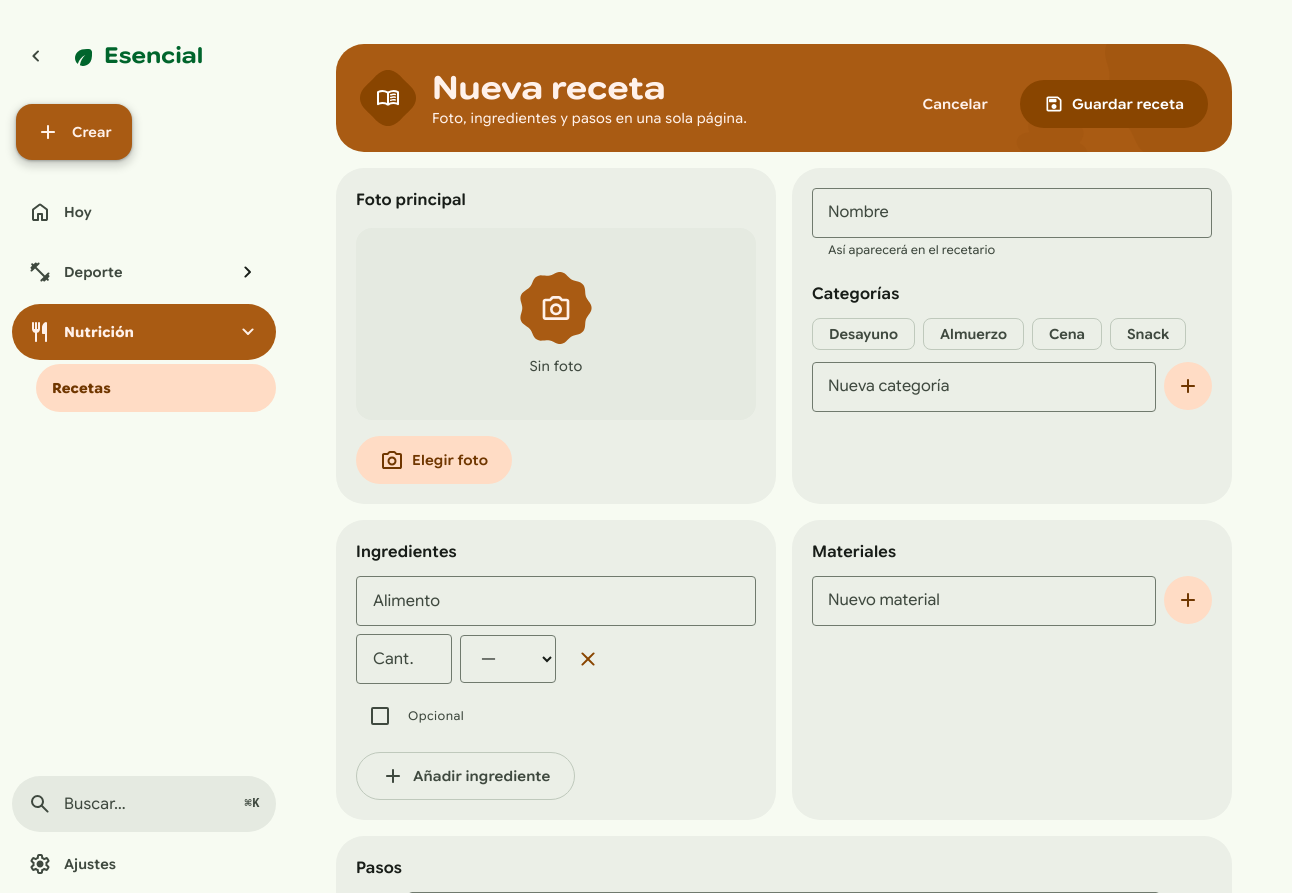
it: nueva-receta: categorías › toggle de chips base y añadir custom
Expected: the heading "Nueva receta" is shown, x1=432 y1=68 x2=666 y2=108
Click the button "Desayuno": click(864, 334) x1=812 y1=318 x2=915 y2=350
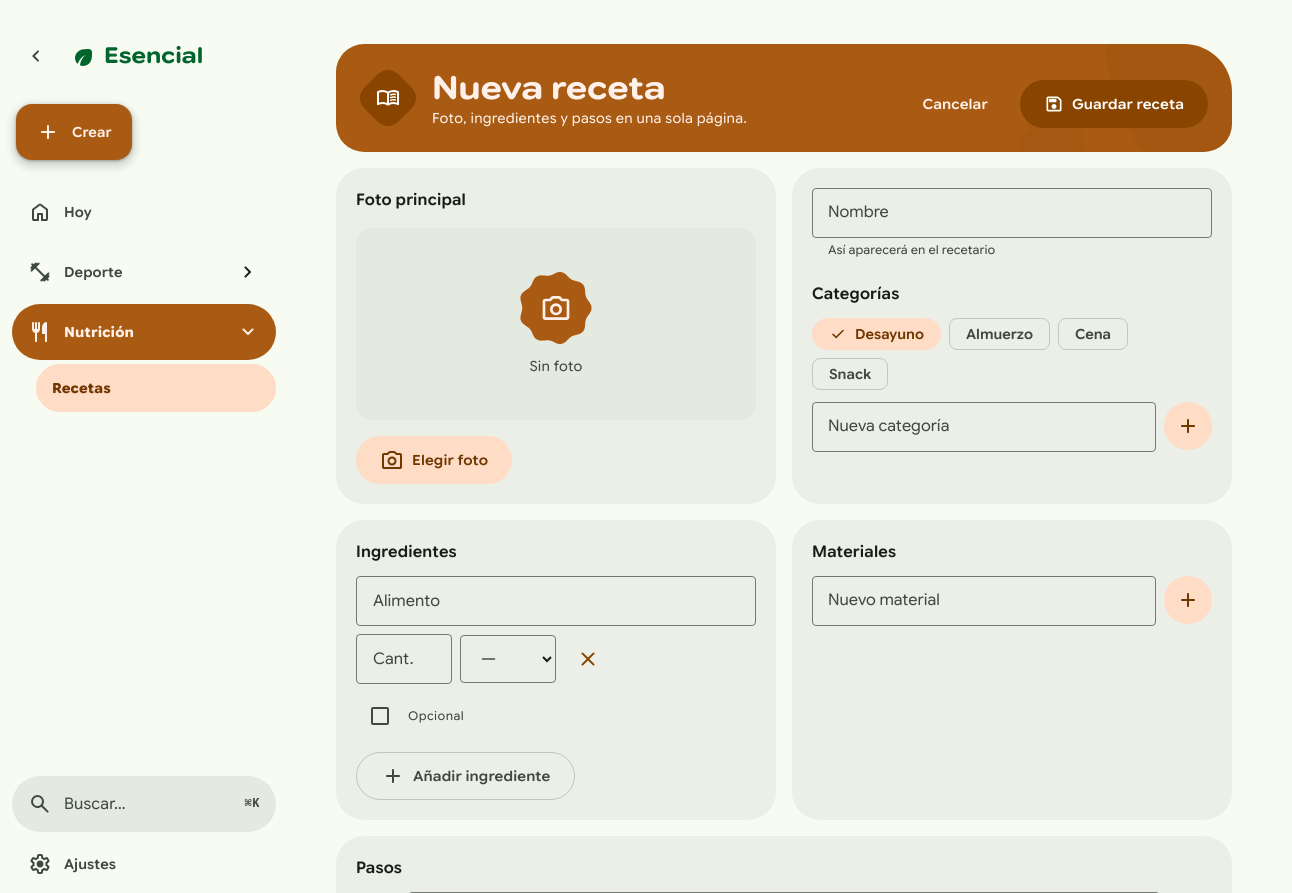
Result: the button "Desayuno" is pressed at x1=812 y1=318 x2=941 y2=350
In the field labelled "Nueva categoría": (984, 427) x1=812 y1=402 x2=1156 y2=452, type "batch"
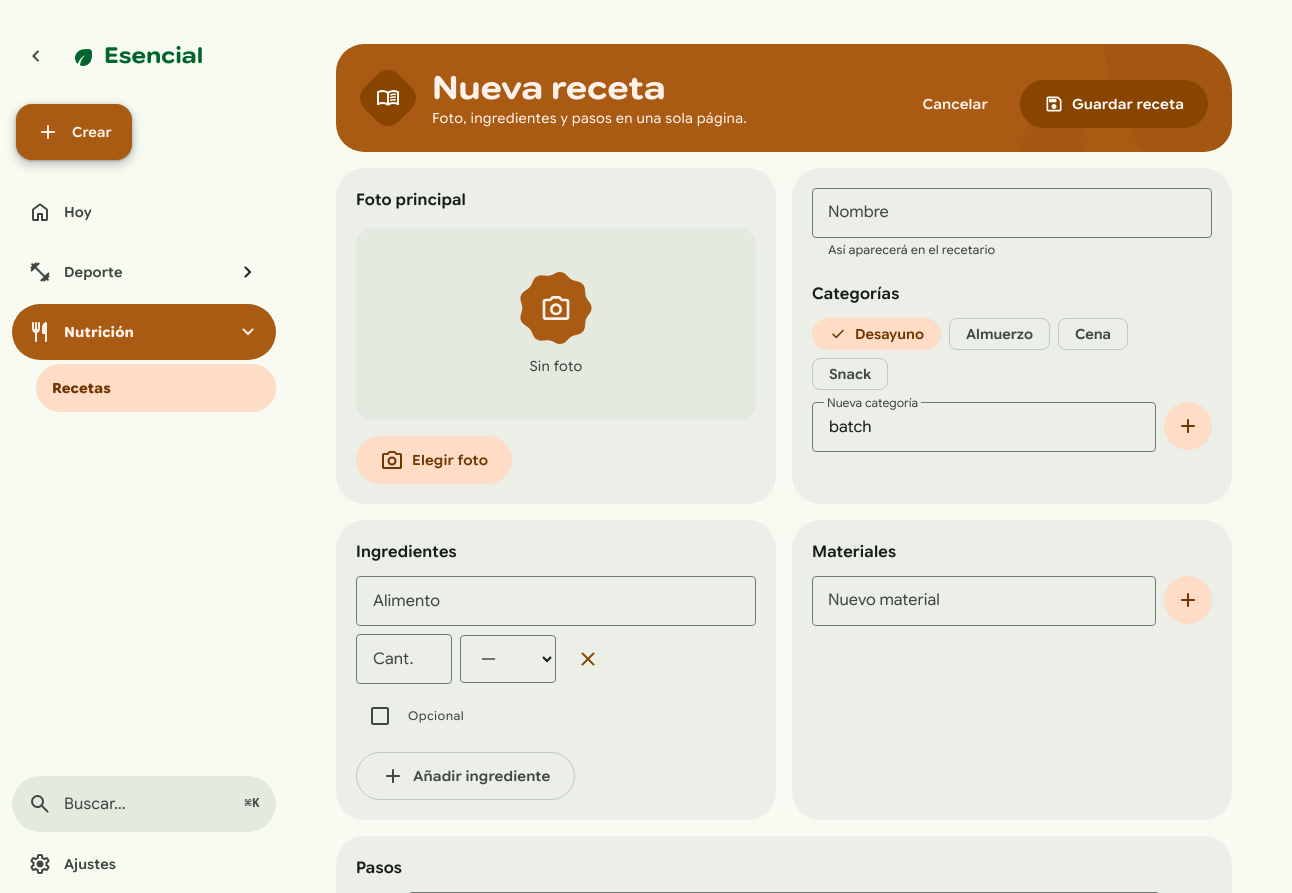
Click the button named "Añadir categoría": click(1188, 426) x1=1164 y1=402 x2=1212 y2=450
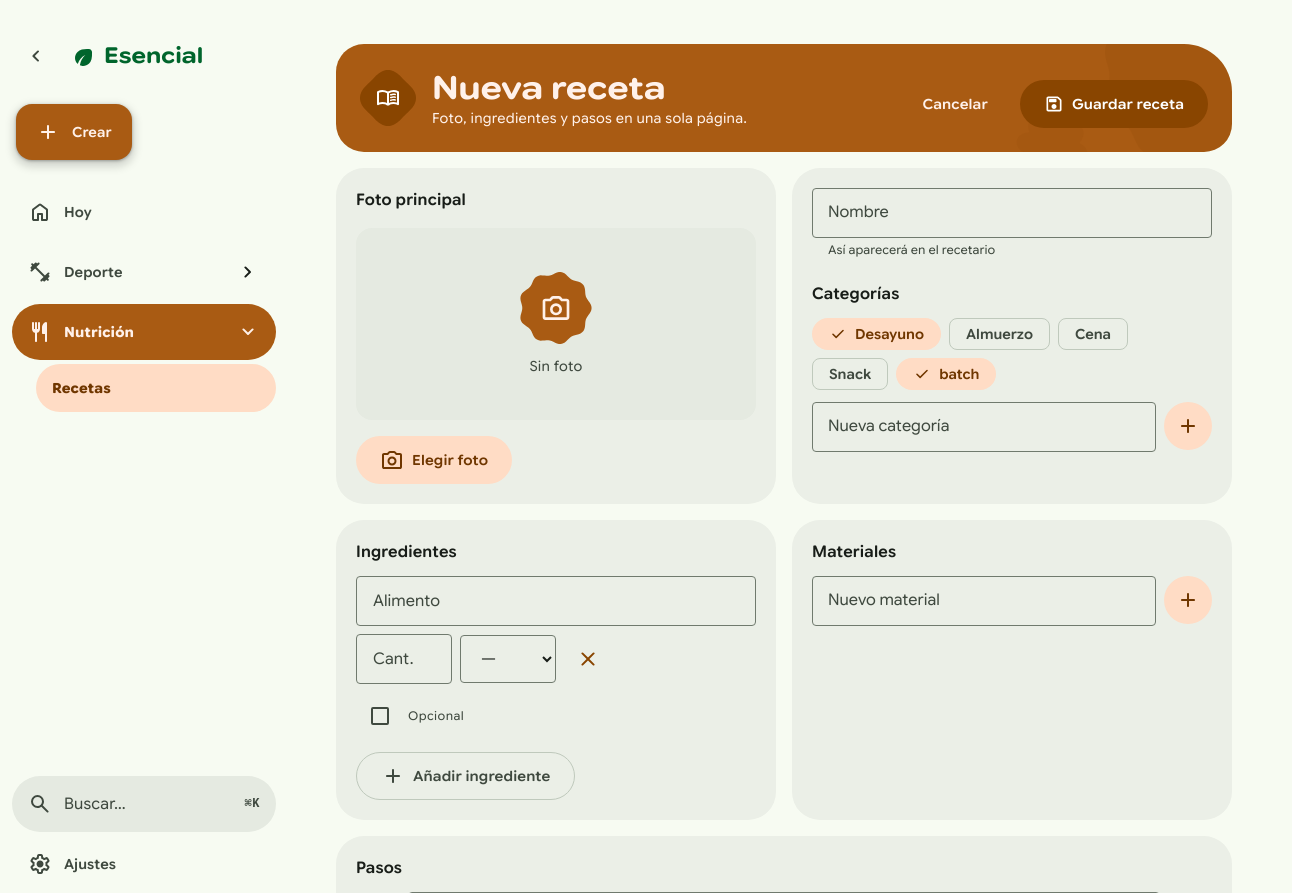
Result: the button "batch" is shown at x1=896 y1=358 x2=996 y2=390
Result: the field labelled "Nueva categoría" is empty at x1=812 y1=402 x2=1156 y2=452
